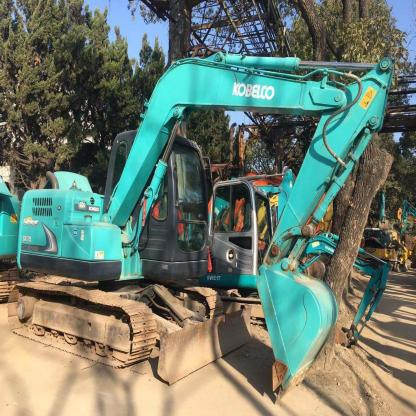excavator: (17, 27, 396, 395)
